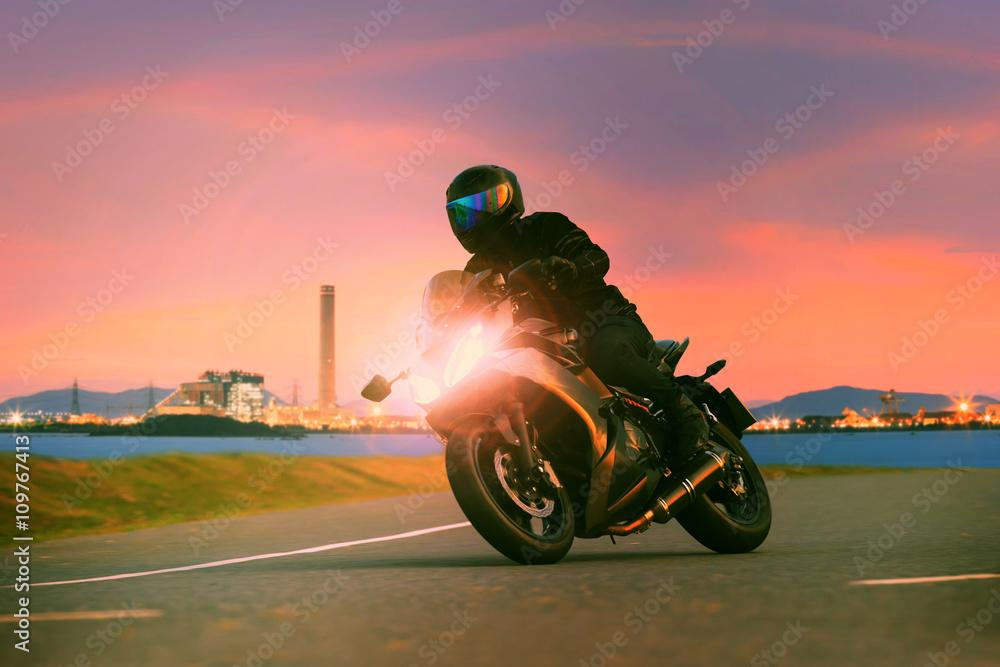helmet: (445, 163, 526, 255)
